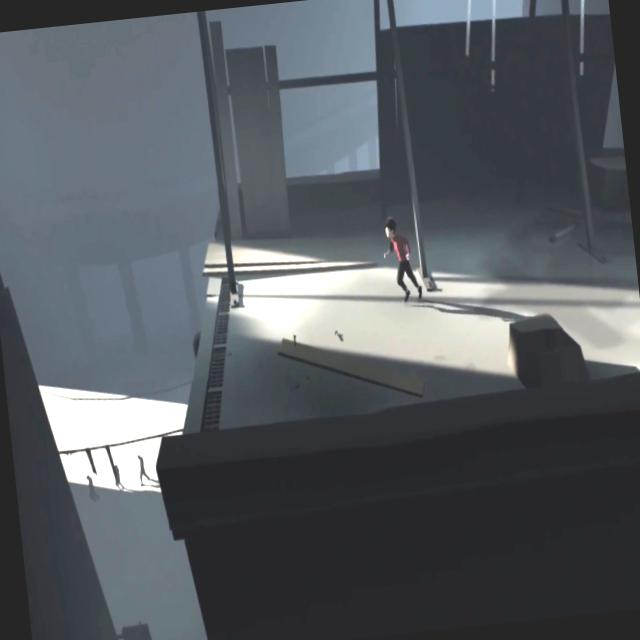boy: (381, 213, 424, 304)
zombie: (137, 454, 150, 486), (86, 474, 100, 503), (114, 464, 124, 492)
